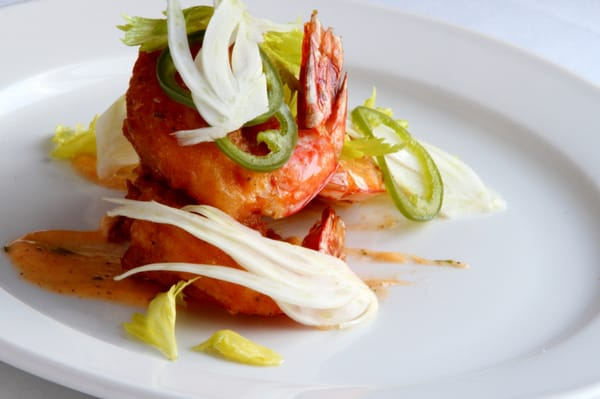soup: (115, 2, 349, 230)
